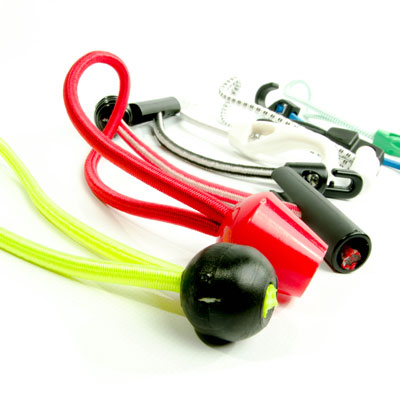Nonrec_Tangler: (16, 21, 391, 347)
